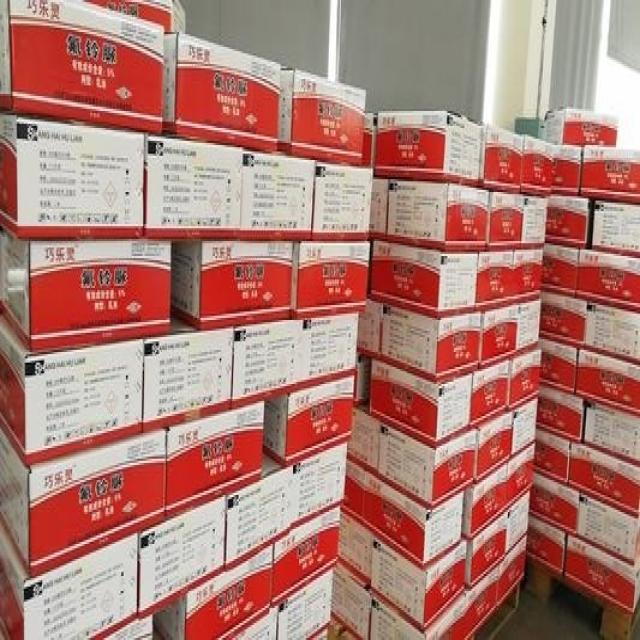box: (1, 429, 167, 578), (0, 311, 145, 467), (0, 0, 165, 137), (0, 226, 172, 350), (1, 111, 144, 243), (0, 516, 138, 638), (161, 32, 280, 151), (152, 540, 274, 640), (140, 309, 234, 435), (166, 399, 263, 521), (138, 495, 227, 619), (172, 241, 293, 331), (358, 469, 465, 570), (144, 134, 241, 241), (371, 356, 472, 450), (371, 538, 466, 631), (281, 66, 365, 169), (264, 373, 355, 467), (369, 243, 479, 320), (381, 425, 475, 514), (375, 111, 483, 188), (379, 303, 482, 380), (225, 450, 289, 572), (271, 501, 341, 610), (240, 149, 315, 243), (387, 181, 488, 250), (564, 535, 640, 614), (231, 320, 300, 407), (291, 243, 370, 318), (568, 442, 640, 518), (289, 439, 347, 529), (312, 164, 373, 245), (297, 311, 358, 390), (579, 489, 639, 565), (370, 593, 466, 640), (475, 250, 543, 316), (574, 350, 640, 418), (479, 301, 542, 369), (276, 567, 333, 640), (584, 397, 640, 465), (462, 461, 510, 540), (576, 250, 640, 309), (584, 301, 640, 365), (582, 143, 640, 203), (530, 471, 581, 535), (331, 567, 375, 640), (545, 105, 620, 147), (538, 290, 590, 350), (467, 512, 507, 589), (474, 410, 514, 486), (538, 382, 585, 444), (592, 196, 640, 256), (545, 194, 593, 252), (336, 514, 373, 589), (485, 124, 524, 194), (471, 358, 509, 429), (466, 563, 498, 638), (526, 516, 566, 576), (539, 337, 578, 397), (520, 132, 554, 196), (485, 194, 525, 247), (349, 410, 381, 476), (497, 535, 526, 606), (534, 429, 569, 486), (509, 348, 540, 412), (543, 243, 578, 297), (506, 489, 531, 561), (229, 604, 277, 640), (339, 459, 365, 525), (552, 143, 582, 198), (521, 196, 550, 252), (508, 444, 533, 508), (513, 395, 537, 461), (358, 299, 383, 361), (103, 614, 152, 640), (369, 179, 389, 241), (354, 352, 371, 405), (363, 113, 378, 171)
